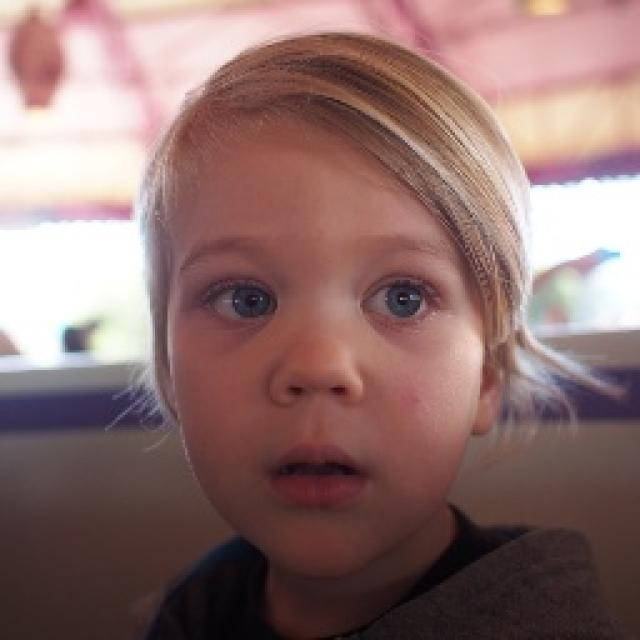earlobe: (470, 399, 498, 437)
eye: (364, 285, 436, 321), (204, 285, 274, 319)
nose: (274, 388, 361, 442)
wholeear: (470, 338, 511, 437)
